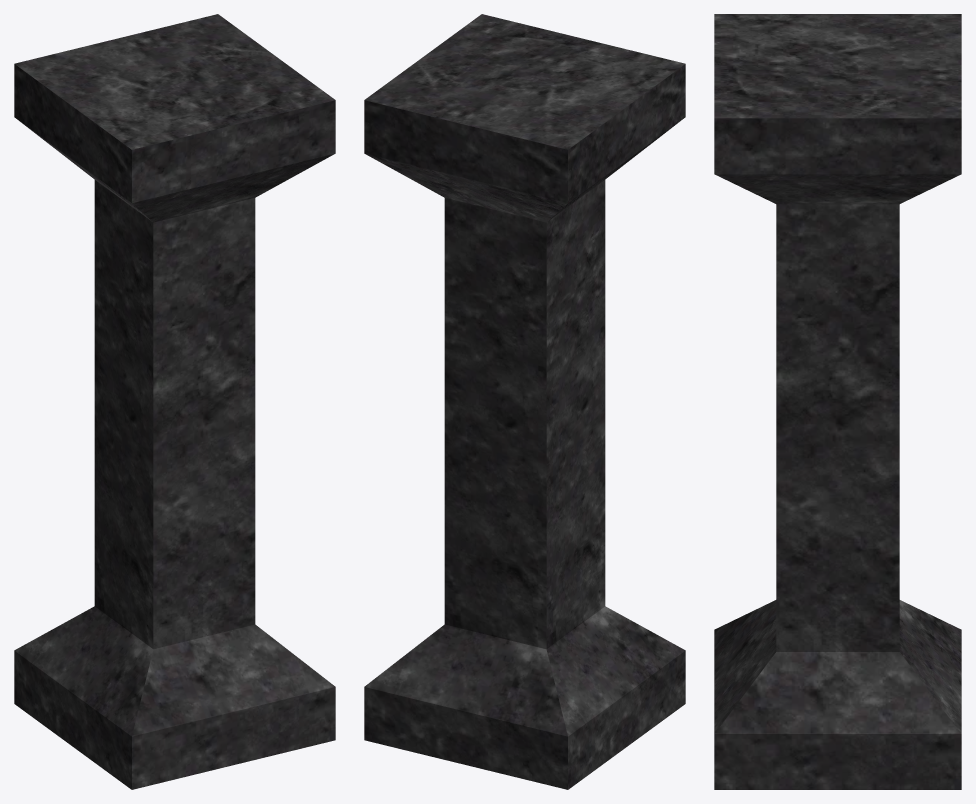
The model's file is Bk_Pillar.glb.
The picture shows the model from 3 angles, left to right: view 1: azimuth 30°, elevation 25°; view 2: azimuth 150°, elevation 25°; view 3: azimuth 270°, elevation 25°; orthographic projection. The views are drawn at different scales.
Parts seen in each view (by area): view 1: Bk_Pillar; view 2: Bk_Pillar; view 3: Bk_Pillar.
Part boxes in pixels (x1,y1,x2,y2): Bk_Pillar: (14,14,335,789); Bk_Pillar: (364,14,685,789); Bk_Pillar: (714,14,961,789).
Bounding box in the file's own units: 1 × 3 × 1.
1 material, 1 textured.
